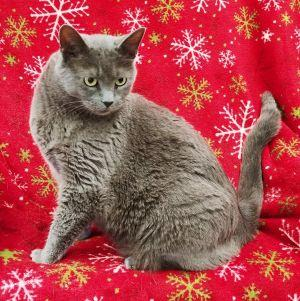rblue: (50, 17, 153, 135)
